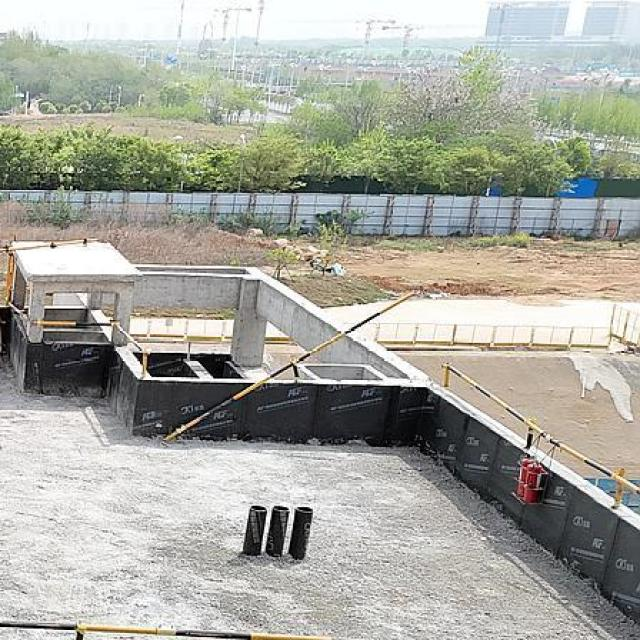edge_guardrail: (163, 291, 416, 444), (440, 361, 640, 508), (0, 618, 335, 640), (31, 318, 150, 376)
